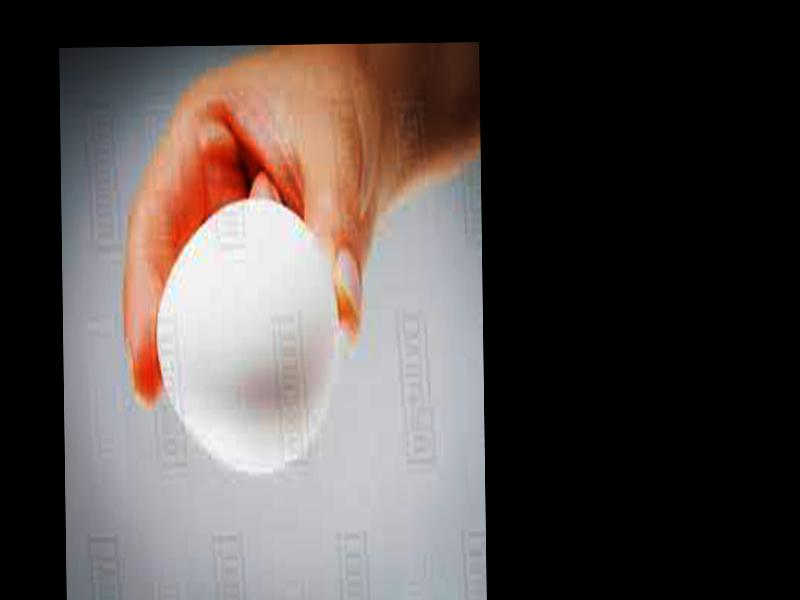Eggs: (154, 199, 337, 474)
